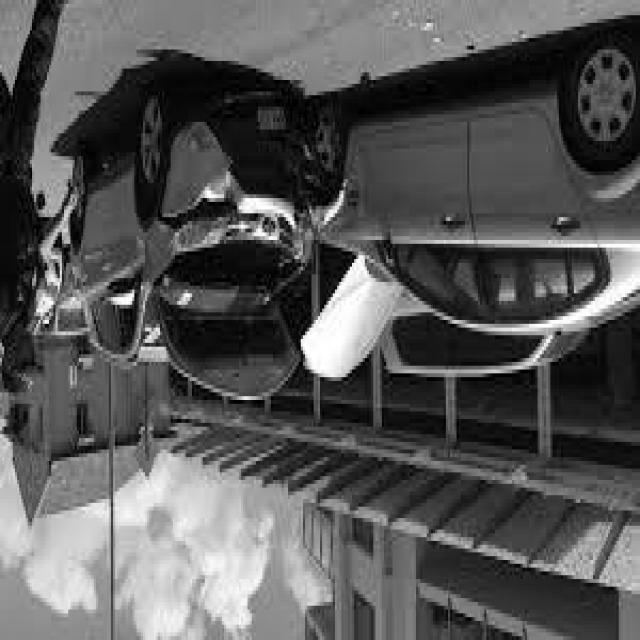moderate: (64, 38, 640, 404)
